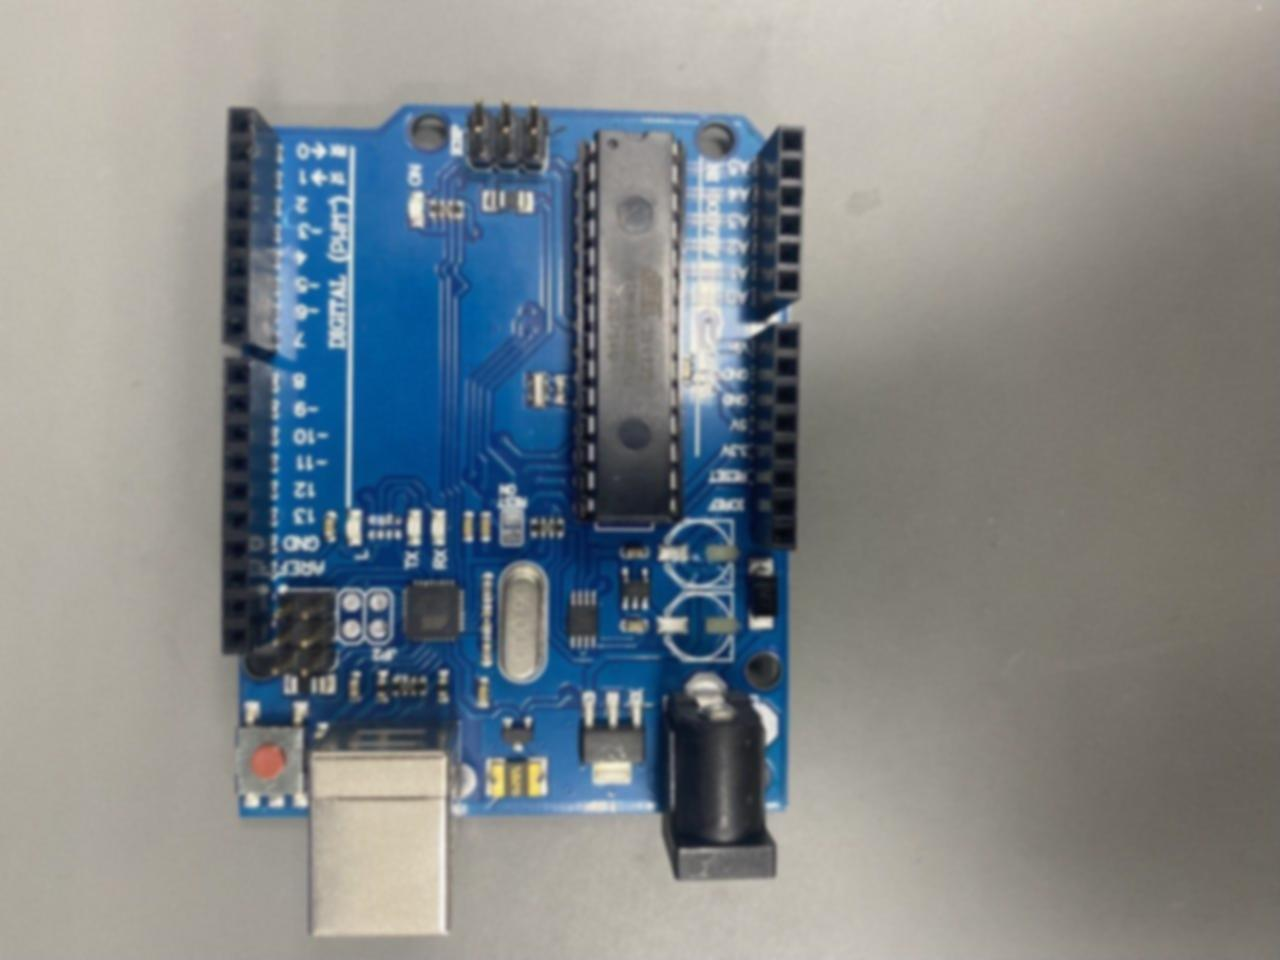ATmega328 chip: (575, 129, 687, 526)
Arduino board: (221, 98, 805, 939)
USB: (307, 719, 462, 938)
pins: (220, 354, 274, 655), (220, 108, 281, 358), (749, 323, 799, 550), (755, 124, 806, 319)
resistor: (428, 200, 465, 221), (392, 677, 427, 697), (530, 518, 564, 538)
